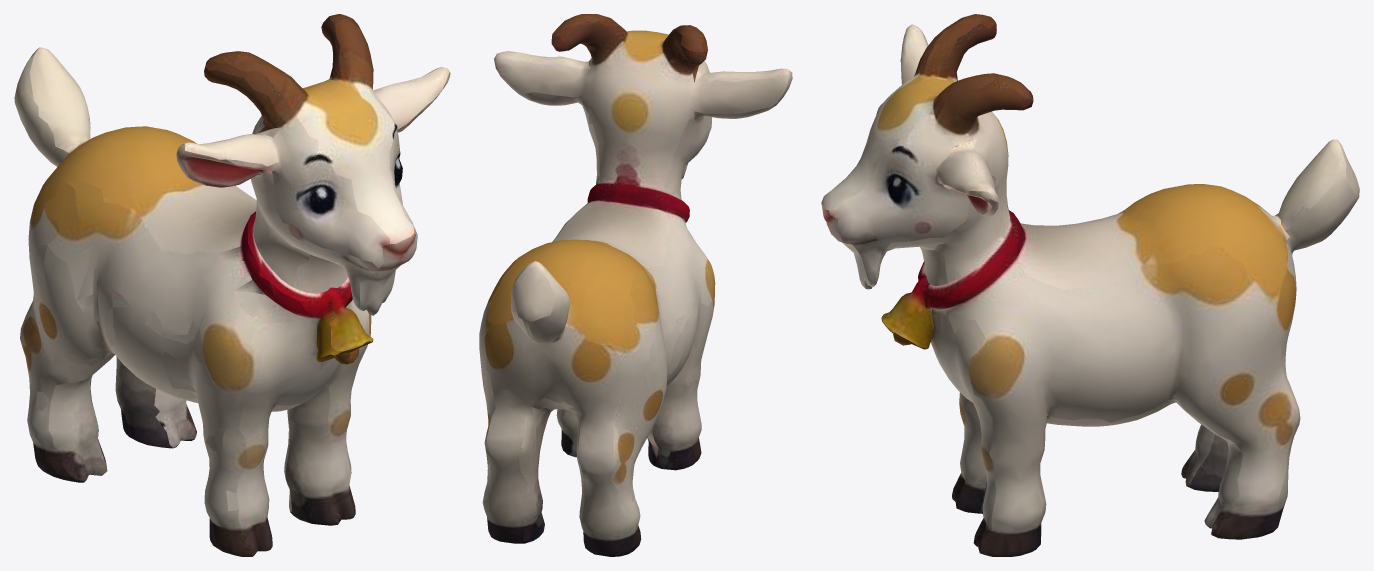
The model's file is goat.glb.
The picture shows the model from 3 angles, left to right: view 1: azimuth 30°, elevation 25°; view 2: azimuth 150°, elevation 25°; view 3: azimuth 270°, elevation 25°; orthographic projection. The views are drawn at different scales.
Visible parts, largest first — view 1: goat; view 2: goat; view 3: goat.
Part boxes in pixels (x1,y1,x2,y2): goat: (14,14,450,556); goat: (479,14,792,556); goat: (821,14,1359,556).
Size of the model in its own units: 0.6387 by 0.9884 by 1.
Materials: 1 (1 with a texture image).
